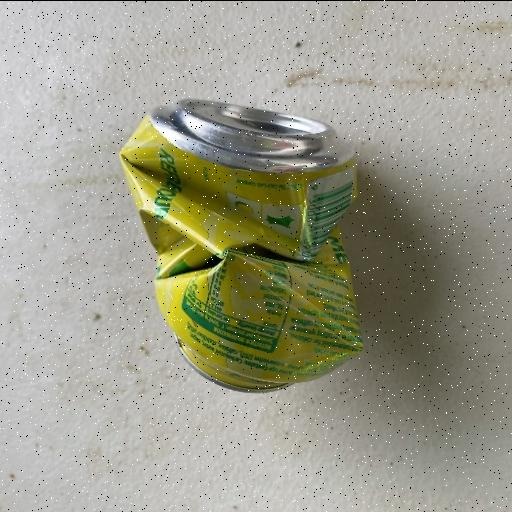Metal: (118, 96, 366, 394)
